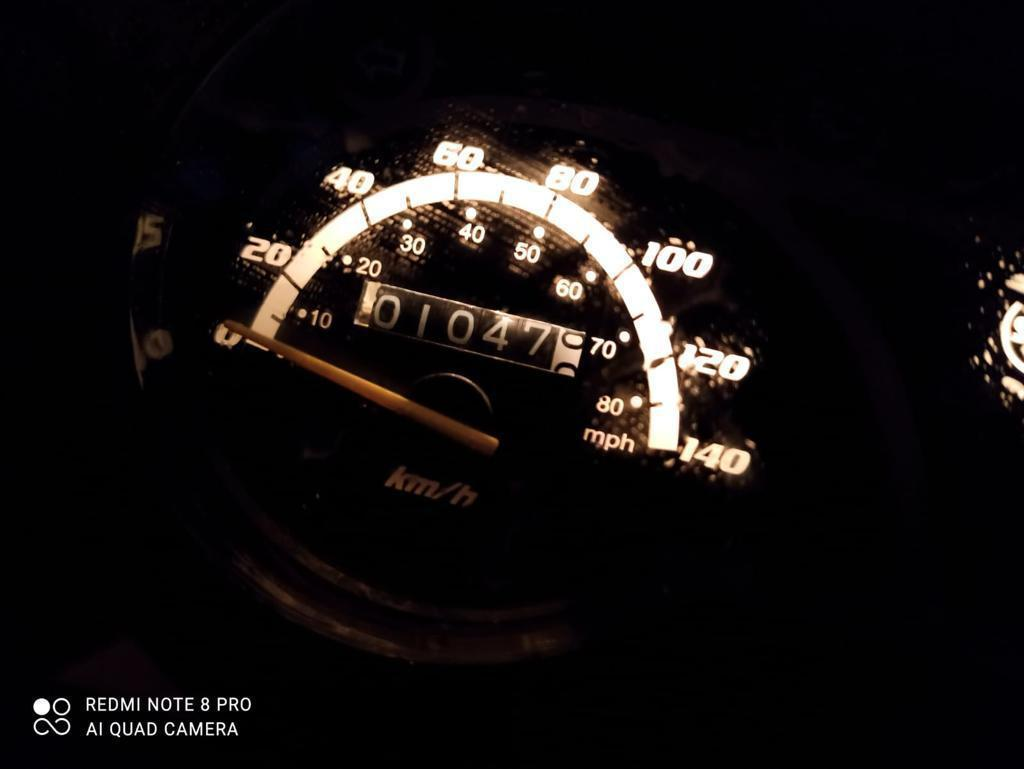0: (445, 302, 476, 349), (372, 291, 401, 330), (571, 278, 582, 302)
1: (413, 292, 433, 342)
4: (483, 313, 512, 355)
6: (554, 277, 569, 297)
7: (523, 313, 550, 361)
8: (561, 322, 585, 358)
odometer: (352, 273, 591, 396)
